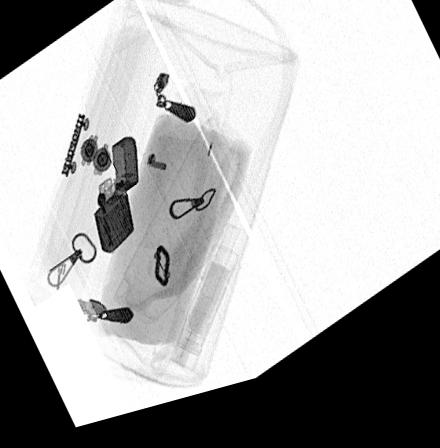Lighter: (93, 142, 139, 258)
